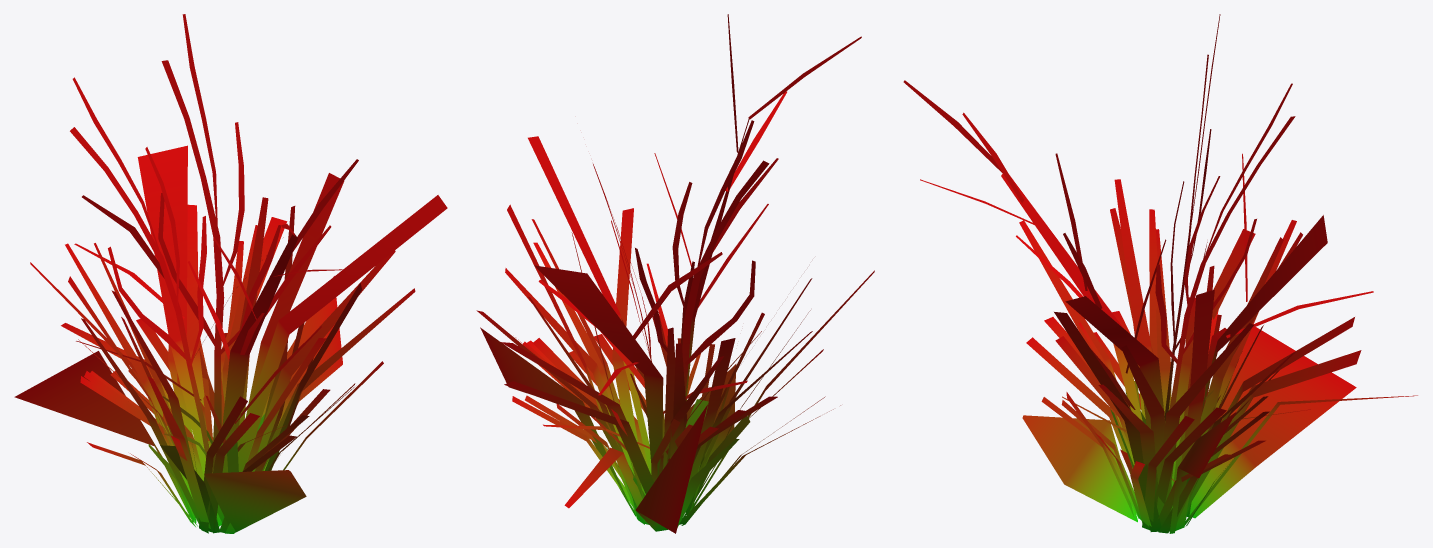
File: Var1_LOD2.fbx
The picture shows the model from 3 angles, left to right: view 1: azimuth 30°, elevation 25°; view 2: azimuth 150°, elevation 25°; view 3: azimuth 270°, elevation 25°; orthographic projection.
Visible parts, largest first — view 1: _5434_Var1_LOD2; view 2: _5434_Var1_LOD2; view 3: _5434_Var1_LOD2.
Part boxes in pixels (box(x1,y1,x2,y2)): _5434_Var1_LOD2: box(14, 14, 447, 533); _5434_Var1_LOD2: box(476, 14, 874, 533); _5434_Var1_LOD2: box(903, 14, 1417, 533).
Bounding box in the file's own units: 91.47 × 119 × 123.
